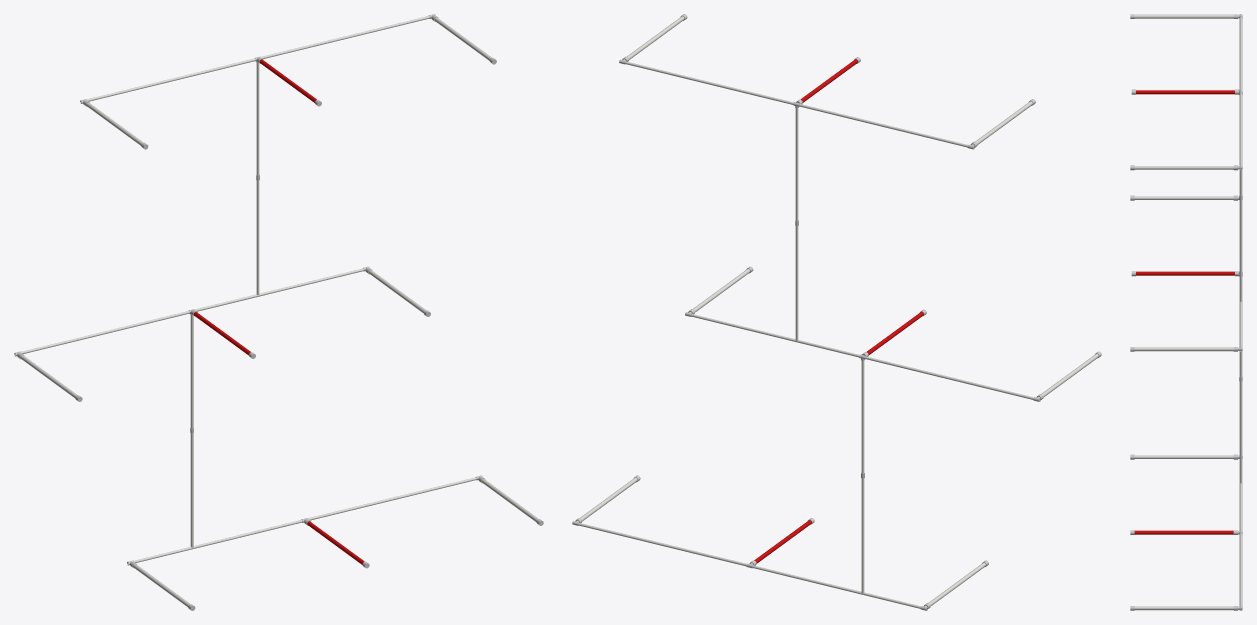
The model's file is Task02_Slalom.obj.
3 renders of one model, left to right at view 1: azimuth 30°, elevation 25°; view 2: azimuth 150°, elevation 25°; view 3: azimuth 270°, elevation 25°, orthographic. The views are drawn at different scales.
Parts seen in each view (by area): view 1: row3_base, row1_base, row2_base, spine1, spine2; view 2: row2_base, row3_base, row1_base, spine1, spine2; view 3: row1_base, row1_pipe_centre, row2_pipe_centre, row1_pipe_left, row2_pipe_right, row3_pipe_centre, row3_pipe_right, row3_base, spine1, spine2, row1_pipe_right, row2_pipe_left (+2 smaller).
Boxes of the visible parts, x1=… form: row3_base: x1=127, y1=475, x2=482, y2=565; row1_base: x1=80, y1=14, x2=435, y2=103; row2_base: x1=14, y1=266, x2=369, y2=356; spine1: x1=256, y1=62, x2=259, y2=295; spine2: x1=190, y1=315, x2=193, y2=547; row2_base: x1=685, y1=311, x2=1040, y2=401; row3_base: x1=572, y1=520, x2=928, y2=610; row1_base: x1=619, y1=59, x2=974, y2=149; spine1: x1=795, y1=108, x2=798, y2=340; spine2: x1=861, y1=361, x2=864, y2=593; row1_base: x1=1238, y1=14, x2=1242, y2=170; row1_pipe_centre: x1=1131, y1=89, x2=1239, y2=94; row2_pipe_centre: x1=1131, y1=271, x2=1239, y2=276; row1_pipe_left: x1=1130, y1=14, x2=1237, y2=18; row2_pipe_right: x1=1130, y1=347, x2=1237, y2=351; row3_pipe_centre: x1=1130, y1=530, x2=1237, y2=534; row3_pipe_right: x1=1130, y1=606, x2=1237, y2=610; row3_base: x1=1238, y1=455, x2=1242, y2=610; spine1: x1=1239, y1=170, x2=1242, y2=301; spine2: x1=1239, y1=352, x2=1242, y2=483; row1_pipe_right: x1=1130, y1=165, x2=1237, y2=170; row2_pipe_left: x1=1130, y1=195, x2=1237, y2=200.
Bounding box in the file's own units: 4.14 × 4.05 × 0.9693.
